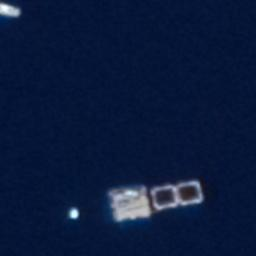square_solid: (147, 181, 180, 214), (174, 178, 208, 208)
